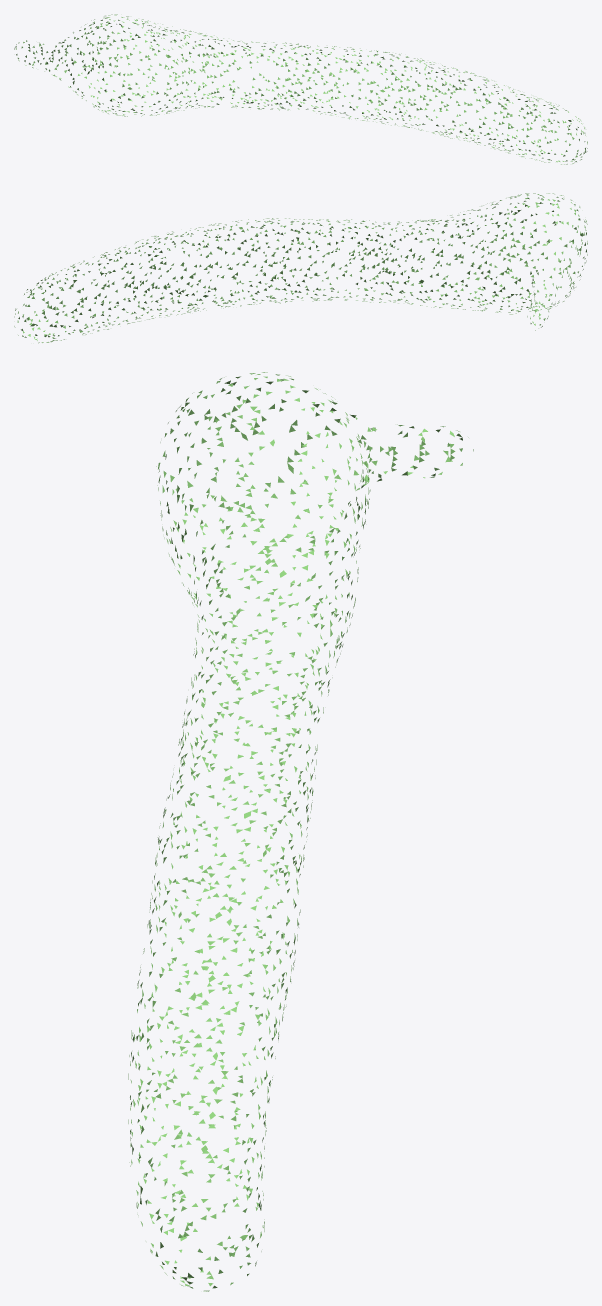
The model's file is morph_015.glb.
The picture shows the model from 3 angles, top to bottom: view 1: azimuth 30°, elevation 25°; view 2: azimuth 150°, elevation 25°; view 3: azimuth 270°, elevation 25°; orthographic projection. The views are drawn at different scales.
Size of the model in its own units: 124 by 55.94 by 36.5.
